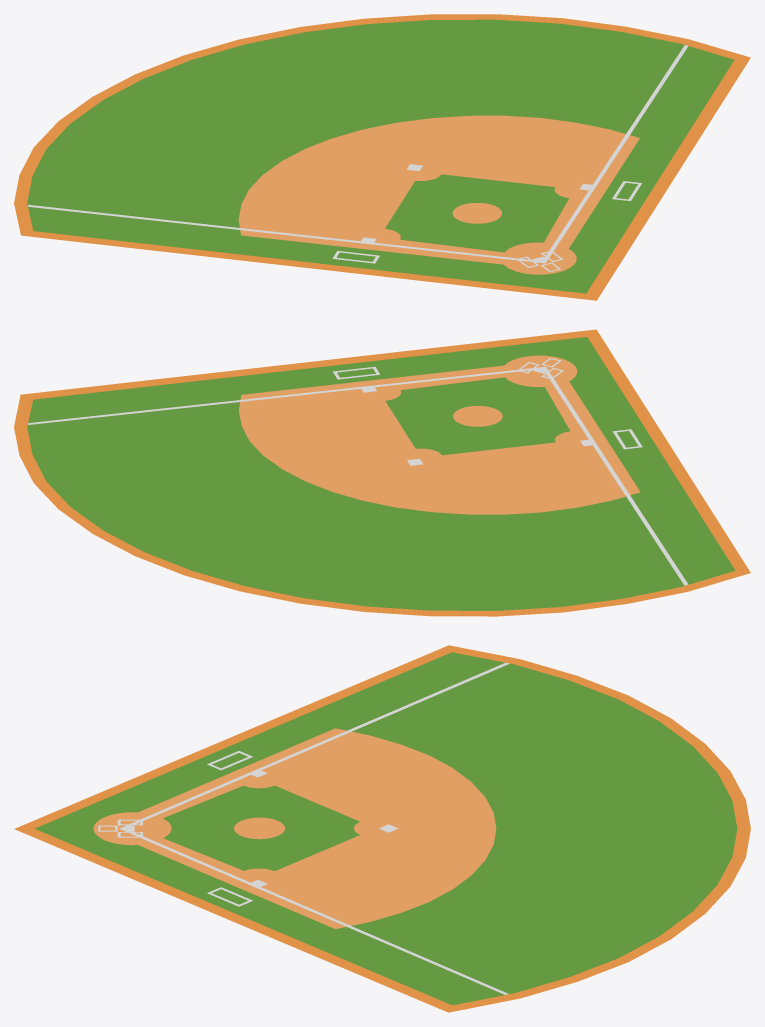
File: Playgroyund Baseball.fbx
3 views of the same model, one above another, from view 1: azimuth 30°, elevation 25°; view 2: azimuth 150°, elevation 25°; view 3: azimuth 270°, elevation 25° (orthographic). The views are drawn at different scales.
Parts seen in each view (by area): view 1: Playground Baseball; view 2: Playground Baseball; view 3: Playground Baseball.
Boxes of the visible parts, x1,y1,x2,y2 form: Playground Baseball: (14, 14, 750, 300); Playground Baseball: (14, 329, 750, 616); Playground Baseball: (14, 645, 750, 1012).
Size of the model in its own units: 3129 by 1.86 by 2653.
